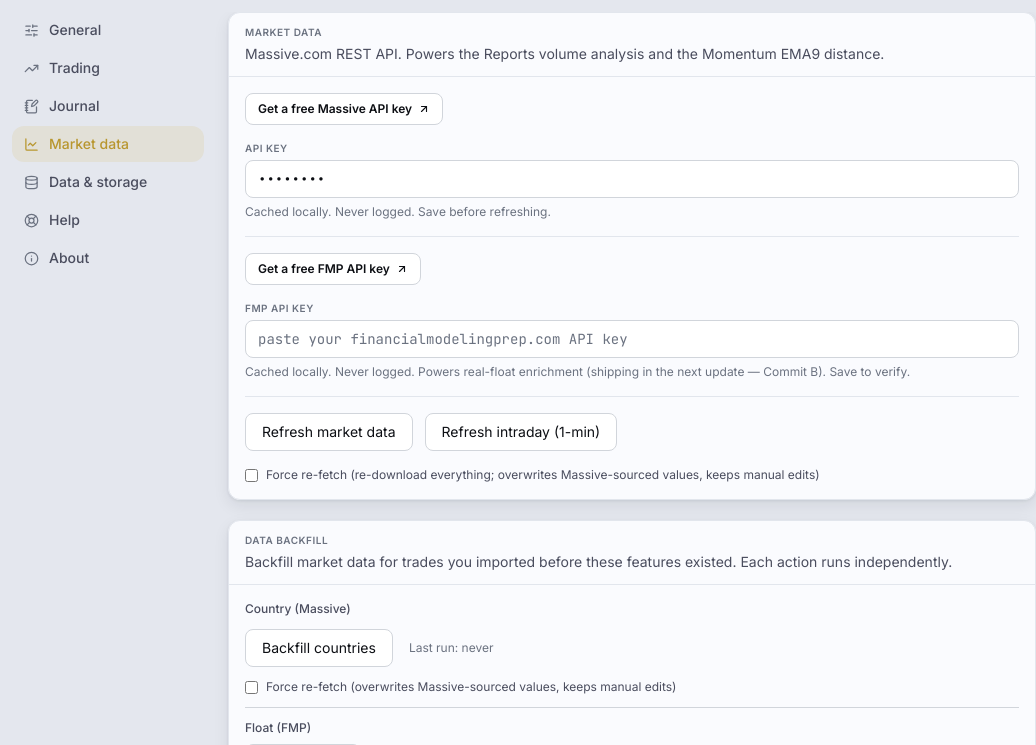
Test: RP3 before the first progress event the estimate is an em-dash › the running bar shows a dash, not a zero and not a placeholder
Step 1. Click the button "Refresh intraday (1-min)" → (521, 432), box [425,413,617,451]
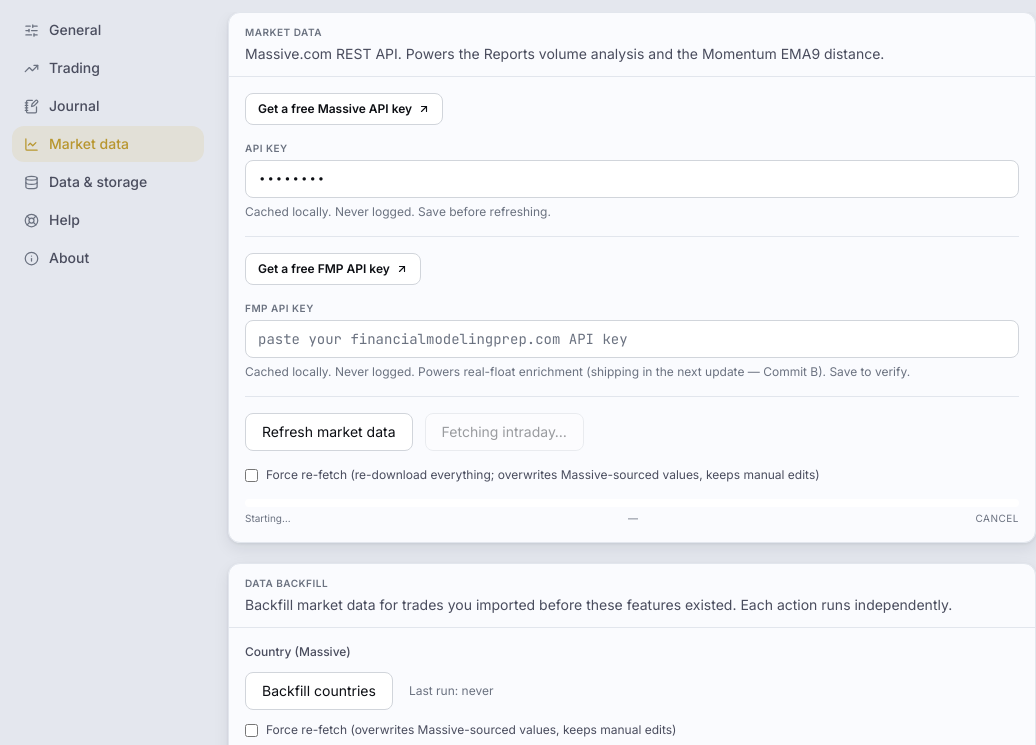
Check: the text with test id "refresh-eta" reads "—", box [628,512,638,524]
